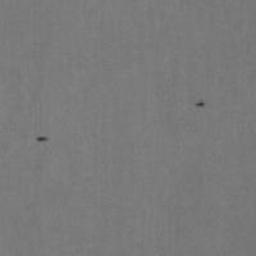Inclusion: (194, 100, 206, 108), (36, 136, 49, 143)
